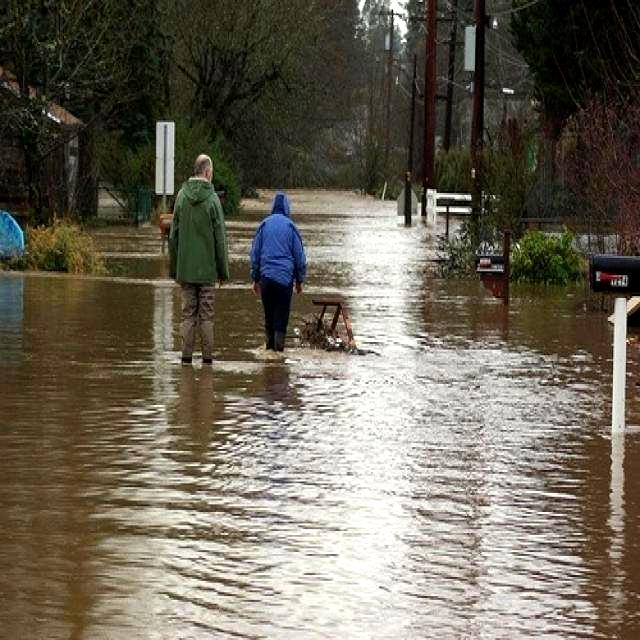civilian: (168, 137, 232, 383), (246, 185, 308, 363)
